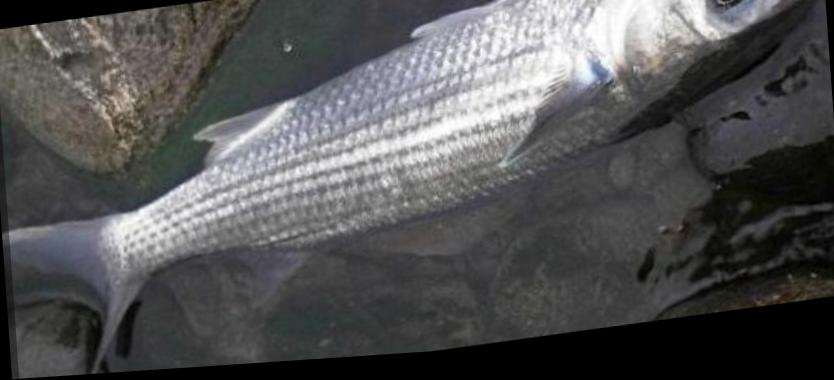fish: (2, 0, 824, 375)
